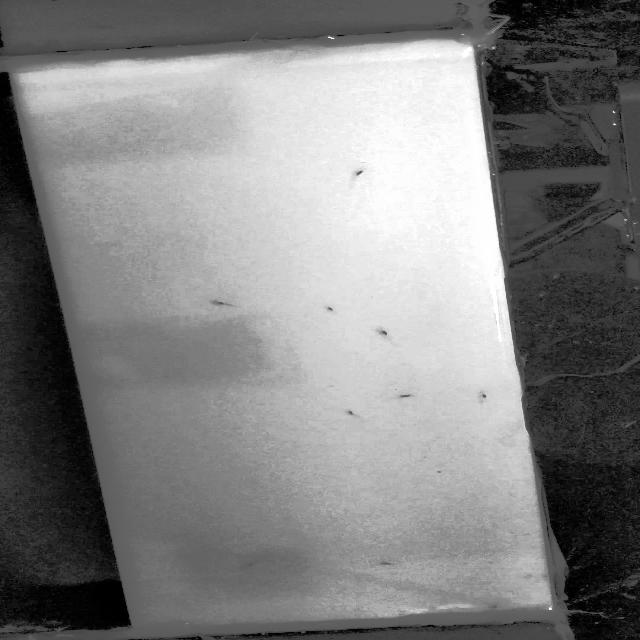shrimp: (235, 555, 268, 573), (328, 404, 362, 420), (469, 389, 503, 405), (200, 298, 241, 310), (343, 165, 367, 182), (390, 388, 416, 403), (374, 558, 398, 571), (374, 325, 391, 342), (322, 302, 338, 316)
